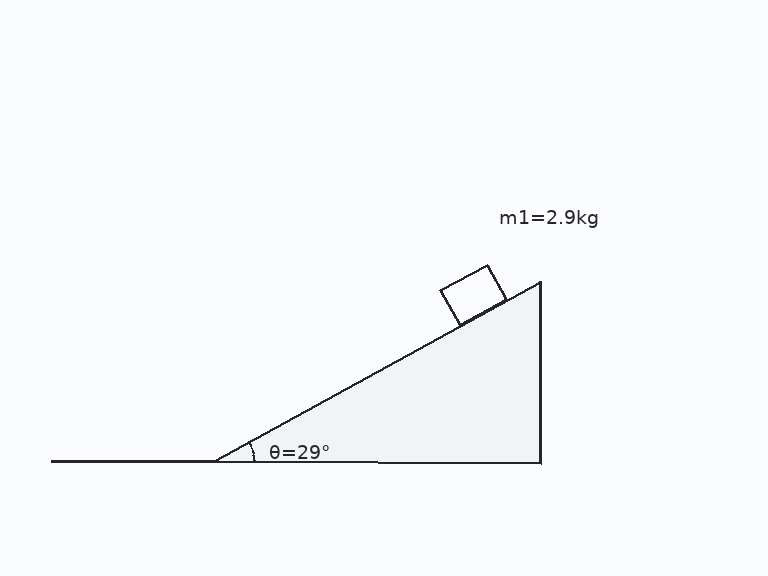block: (439, 263, 508, 327)
ramp: (212, 278, 542, 463)
